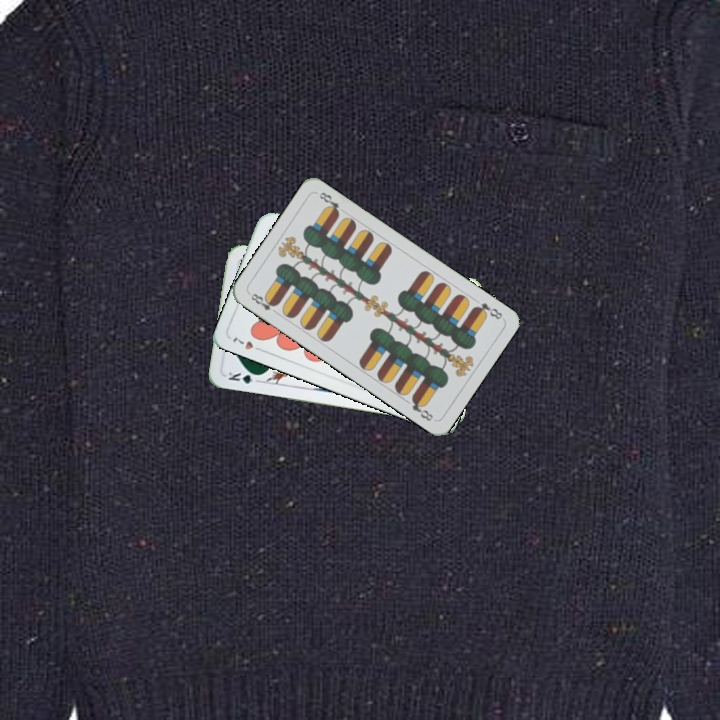E8: (247, 289, 281, 317), (469, 298, 505, 322)
GK: (224, 367, 264, 387)
H7: (228, 333, 266, 354)
